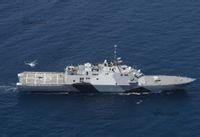warship: (14, 49, 197, 94)
